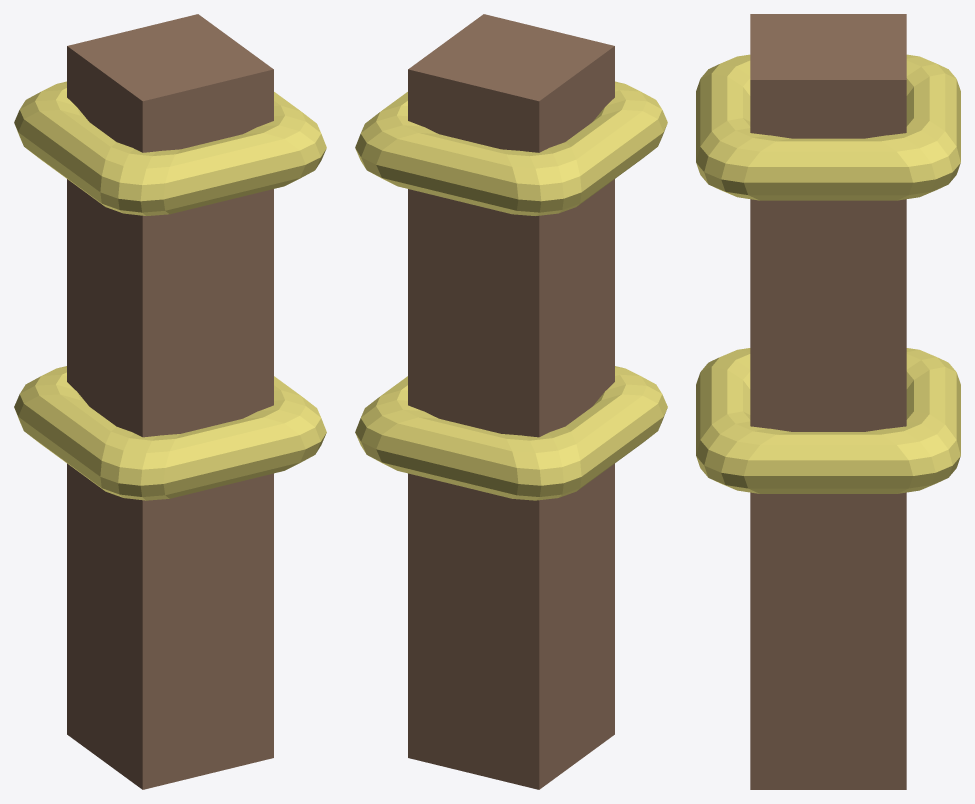
Rendered from buildFence_Corner.fbx.
3 renders of one model, left to right at view 1: azimuth 30°, elevation 25°; view 2: azimuth 150°, elevation 25°; view 3: azimuth 270°, elevation 25°, orthographic. The views are drawn at different scales.
Visible parts, largest first — view 1: buildFence_Corners.001, buildFence_Ropes.001; view 2: buildFence_Corners.001, buildFence_Ropes.001; view 3: buildFence_Corners.001, buildFence_Ropes.001.
Part boxes in pixels (x1,y1,x2,y2): buildFence_Corners.001: (67,14,273,789); buildFence_Ropes.001: (14,81,326,500); buildFence_Corners.001: (408,14,614,789); buildFence_Ropes.001: (355,81,667,500); buildFence_Corners.001: (750,14,906,789); buildFence_Ropes.001: (696,54,960,493).
Size of the model in its own units: 50.89 by 151 by 50.89.
